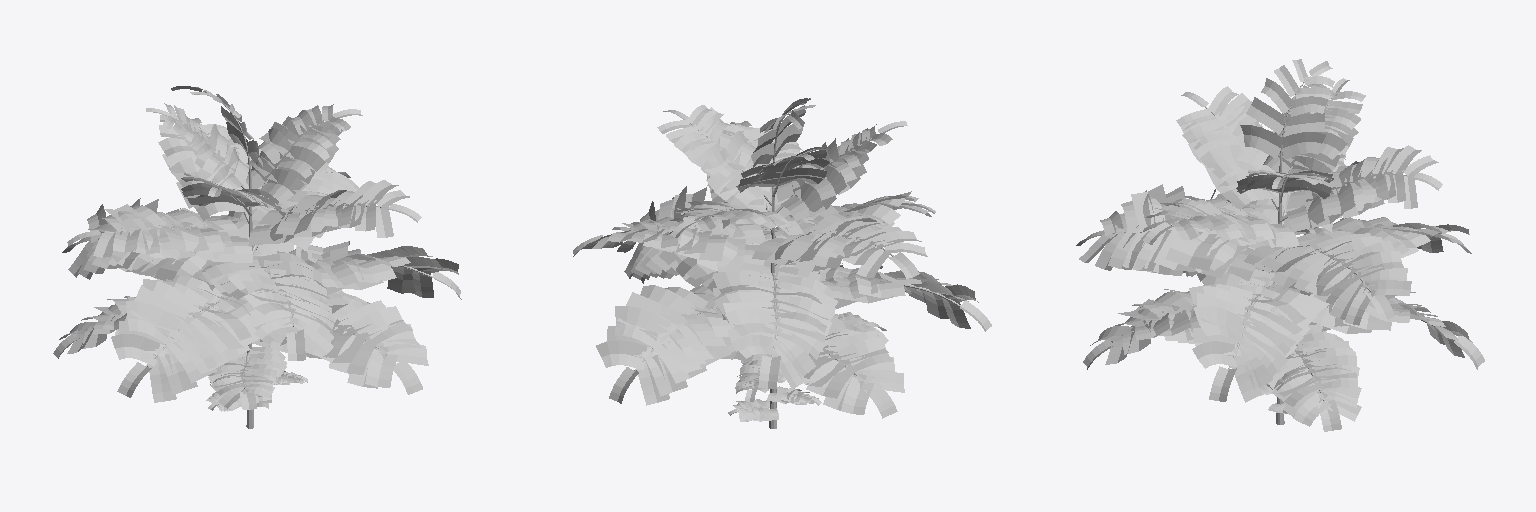
The picture shows the model from 3 angles: view 1: azimuth 30°, elevation 25°; view 2: azimuth 150°, elevation 25°; view 3: azimuth 270°, elevation 25°; orthographic projection.
Parts seen in each view (by area): view 1: AS12_Leaf2, AS12_Leaf1, AS12_Branch1; view 2: AS12_Leaf2, AS12_Leaf1, AS12_Branch1; view 3: AS12_Leaf2, AS12_Leaf1, AS12_Branch1.
Boxes of the visible parts, x1=… form: AS12_Leaf2: x1=59, y1=87, x2=458, y2=411; AS12_Leaf1: x1=53, y1=86, x2=461, y2=411; AS12_Branch1: x1=85, y1=94, x2=432, y2=428; AS12_Leaf2: x1=583, y1=98, x2=978, y2=419; AS12_Leaf1: x1=573, y1=98, x2=991, y2=421; AS12_Branch1: x1=634, y1=114, x2=960, y2=428; AS12_Leaf2: x1=1090, y1=76, x2=1472, y2=426; AS12_Leaf1: x1=1076, y1=59, x2=1484, y2=431; AS12_Branch1: x1=1112, y1=76, x2=1438, y2=424.
Bounding box in the file's own units: 0.9927 × 0.9048 × 0.9893.